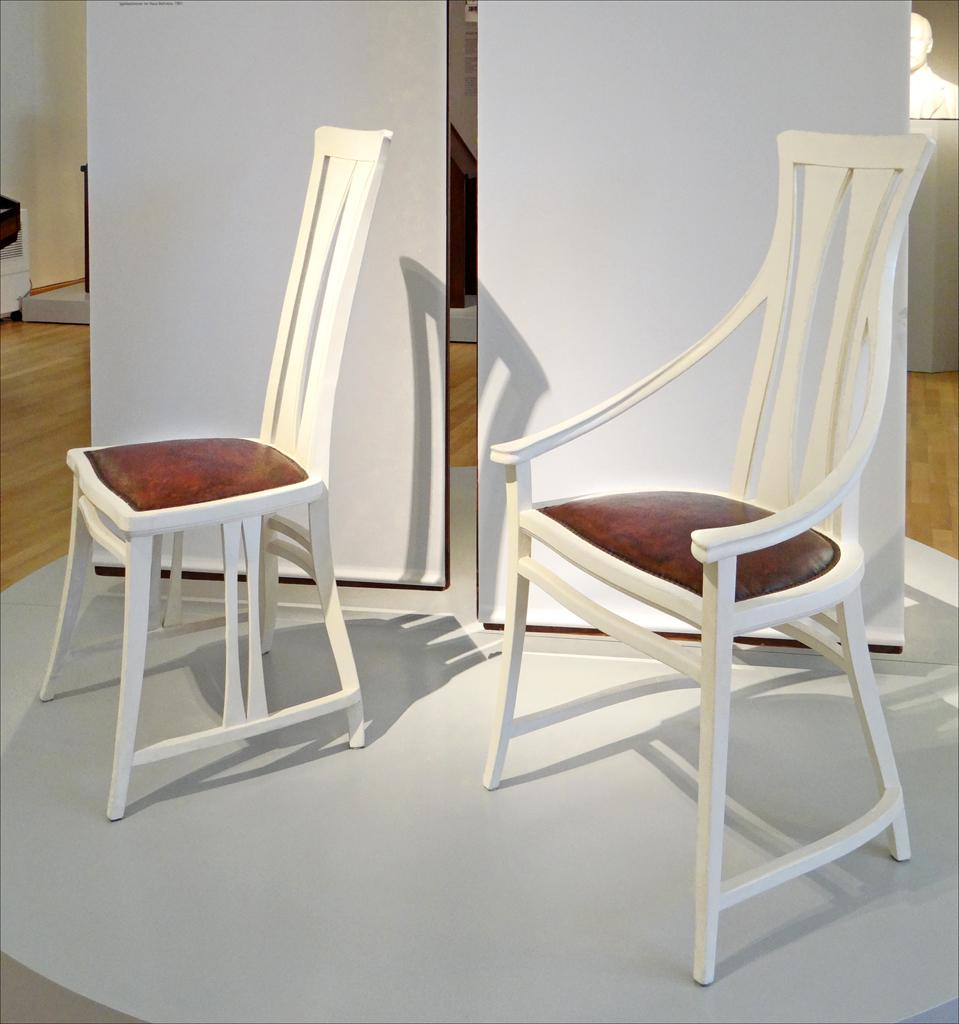Chair: (480, 111, 940, 989), (34, 124, 386, 822)
